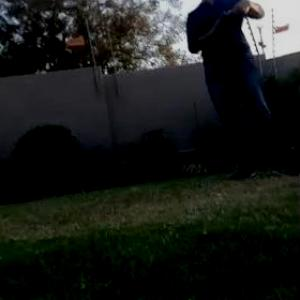follow: (180, 0, 299, 187)
